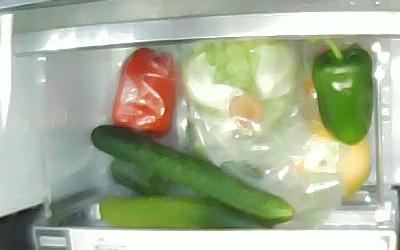cucumber: (91, 125, 296, 226), (99, 195, 273, 228)
grapefruit_vinyl: (294, 118, 371, 200)
lettuce_vinyl: (180, 39, 299, 135)
paprika: (309, 37, 374, 147), (107, 158, 171, 195)
paprika_vinyl: (111, 47, 177, 139)
